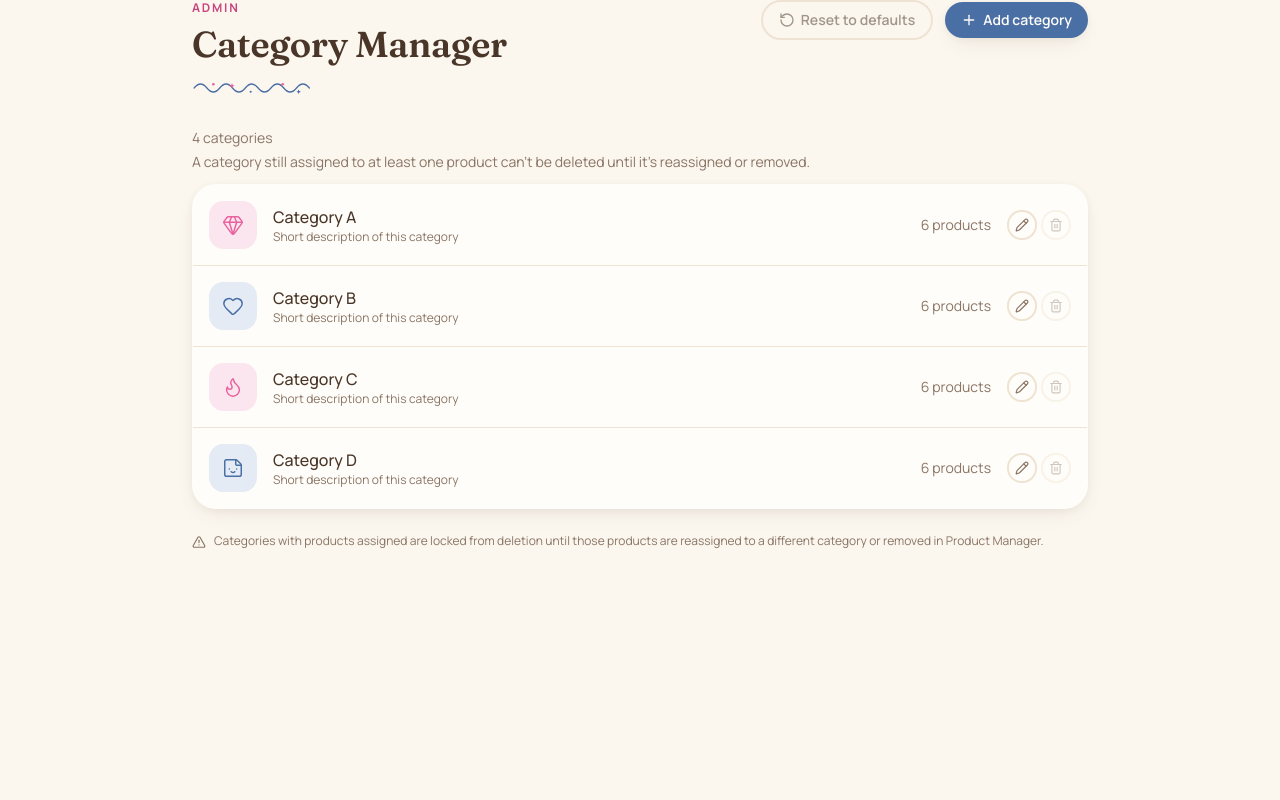
Test case: CategoryManager › allows deleting a category with no products assigned, after confirming
The width and height of the screenshot is (1280, 800).
Click the button "Add category".
click(1017, 20)  # box [945,2,1088,38]
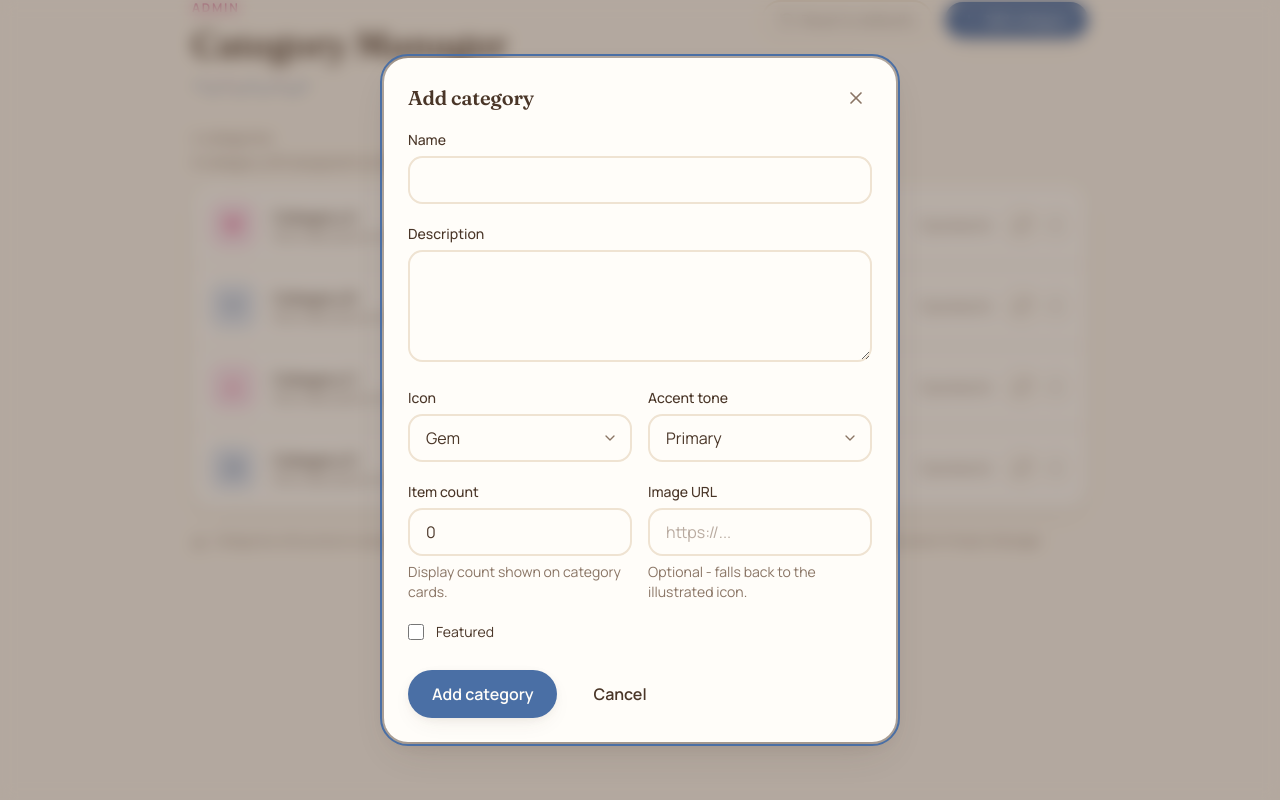
Type "Empty Category" into the field labelled "Name".
click(640, 180); type("Empty Category")  # box [408,156,872,204]
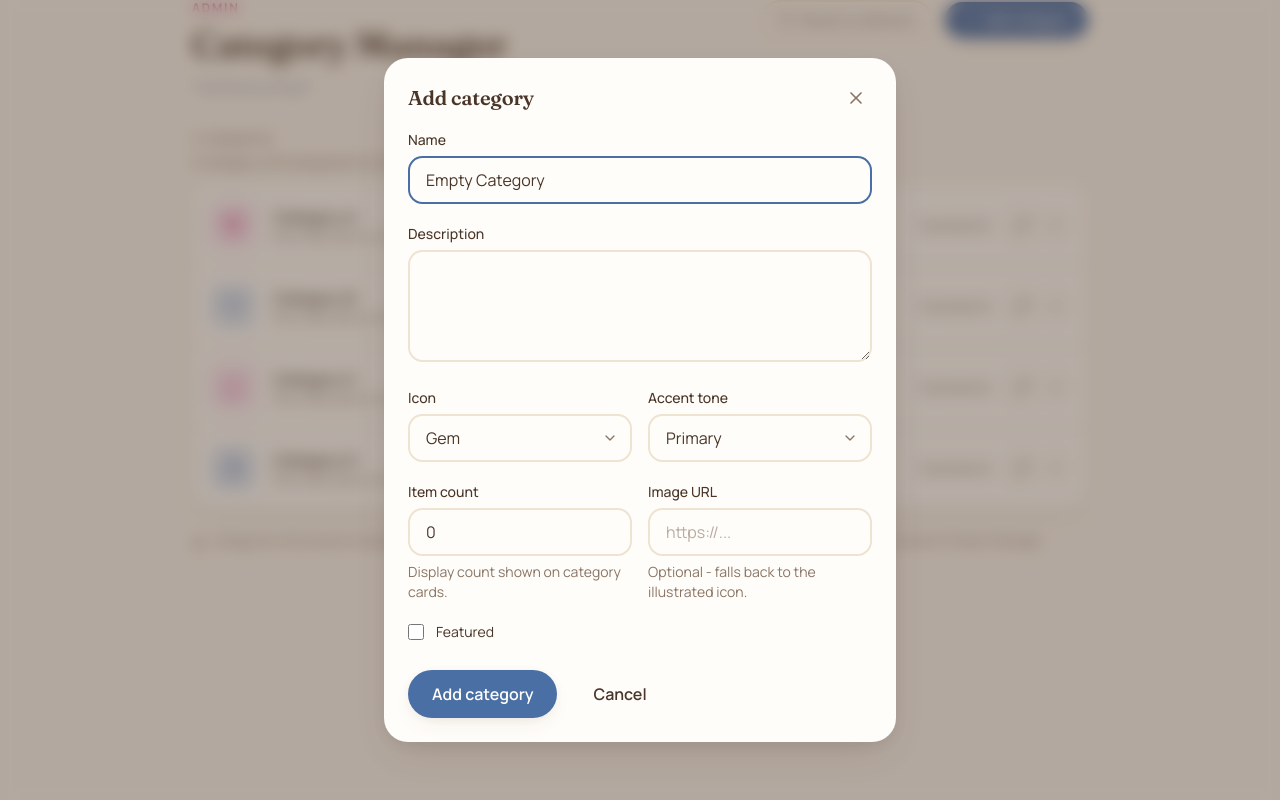
Type "Nothing here yet." into the text box labelled "Description".
click(640, 306); type("Nothing here yet.")  # box [408,250,872,362]
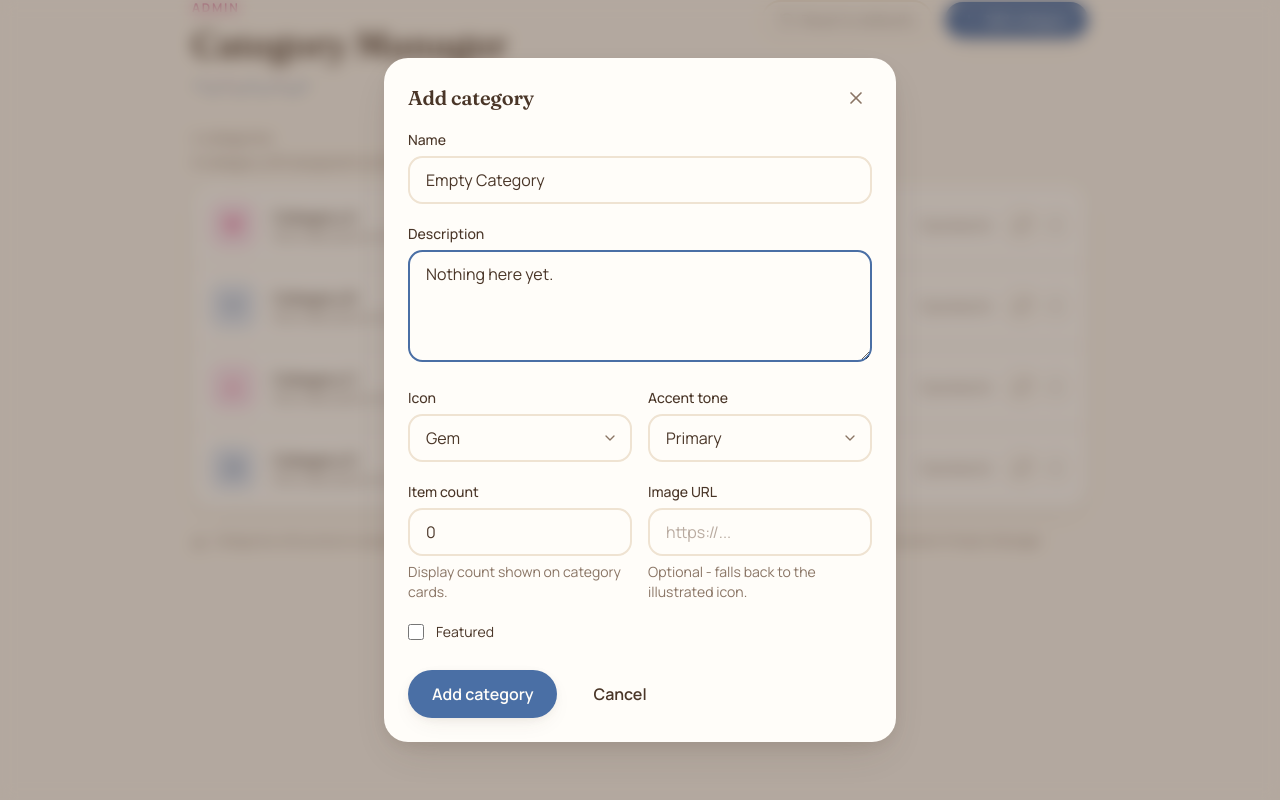
Click the button "Add category".
click(483, 694)  # box [408,670,558,718]
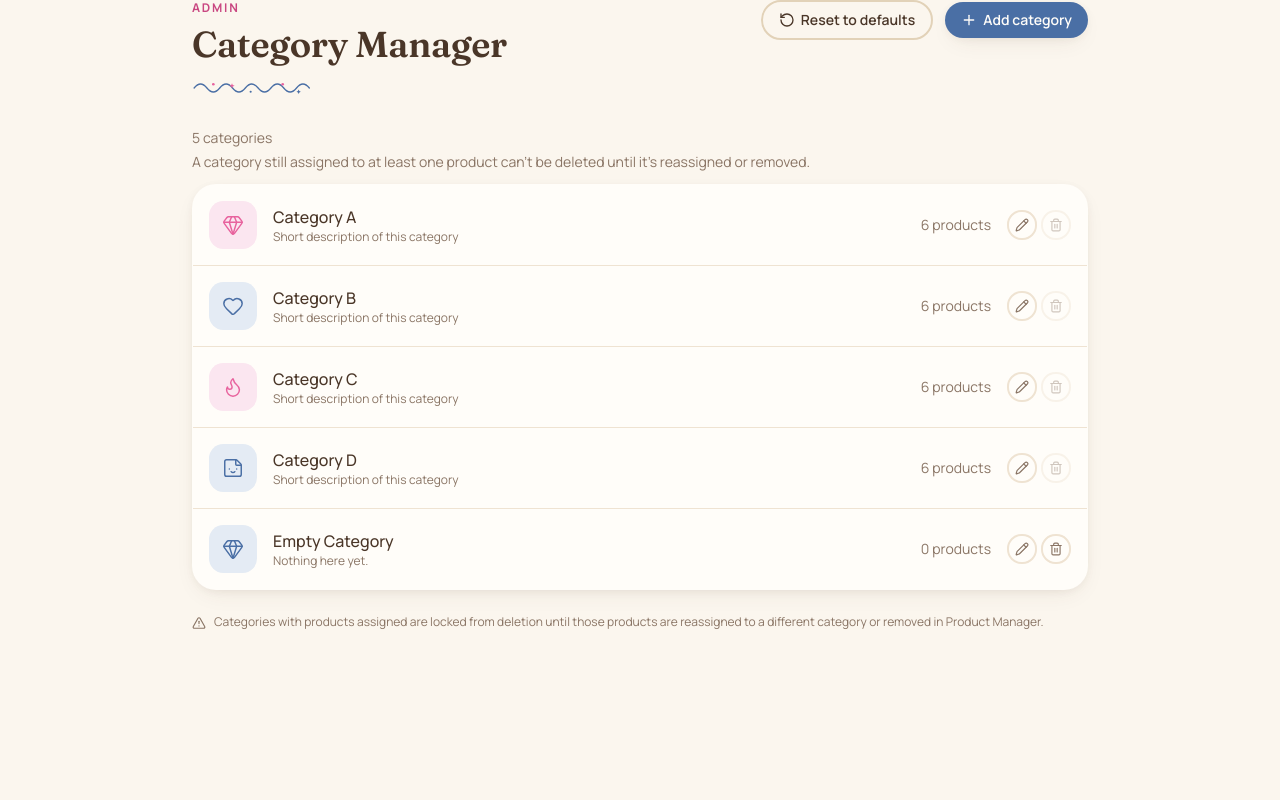
Click the button named "Delete Empty Category".
click(1056, 549)  # box [1041,534,1071,564]
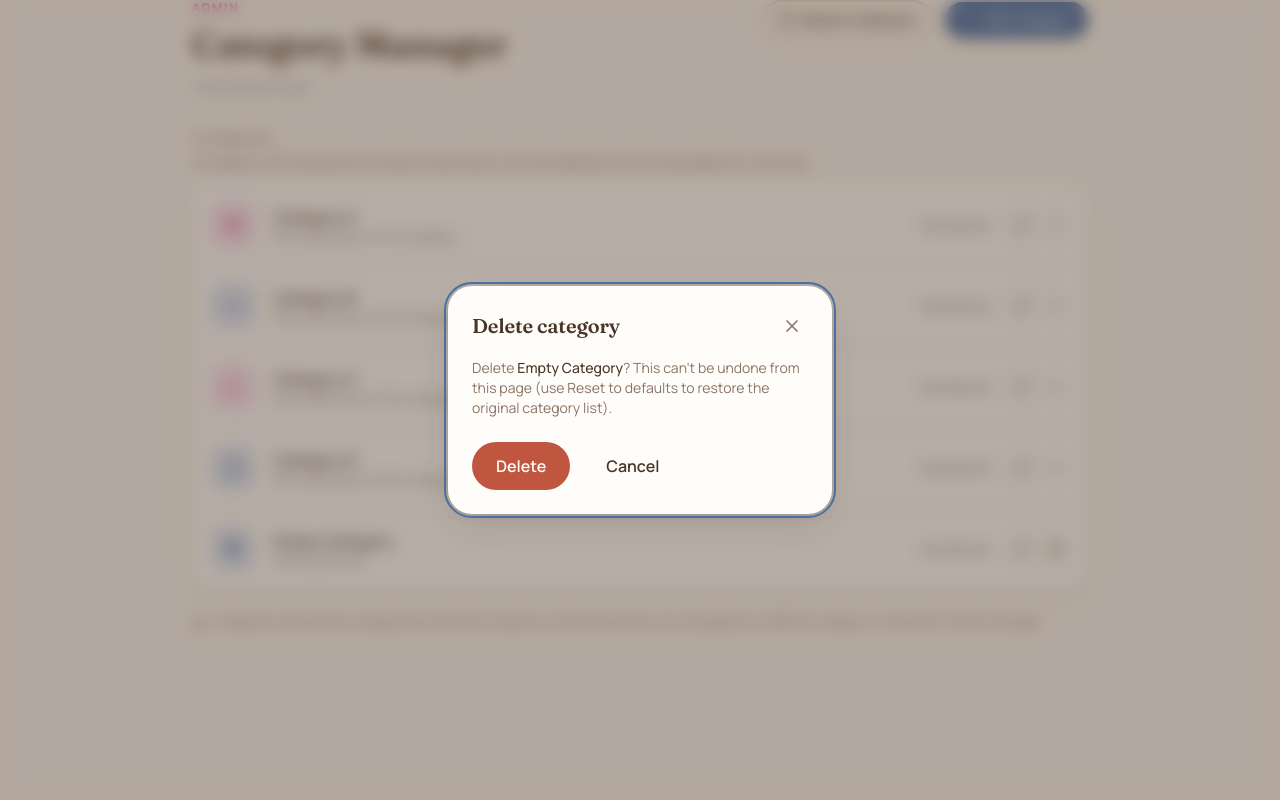
Click the button "Delete".
click(521, 466)  # box [472,442,570,490]
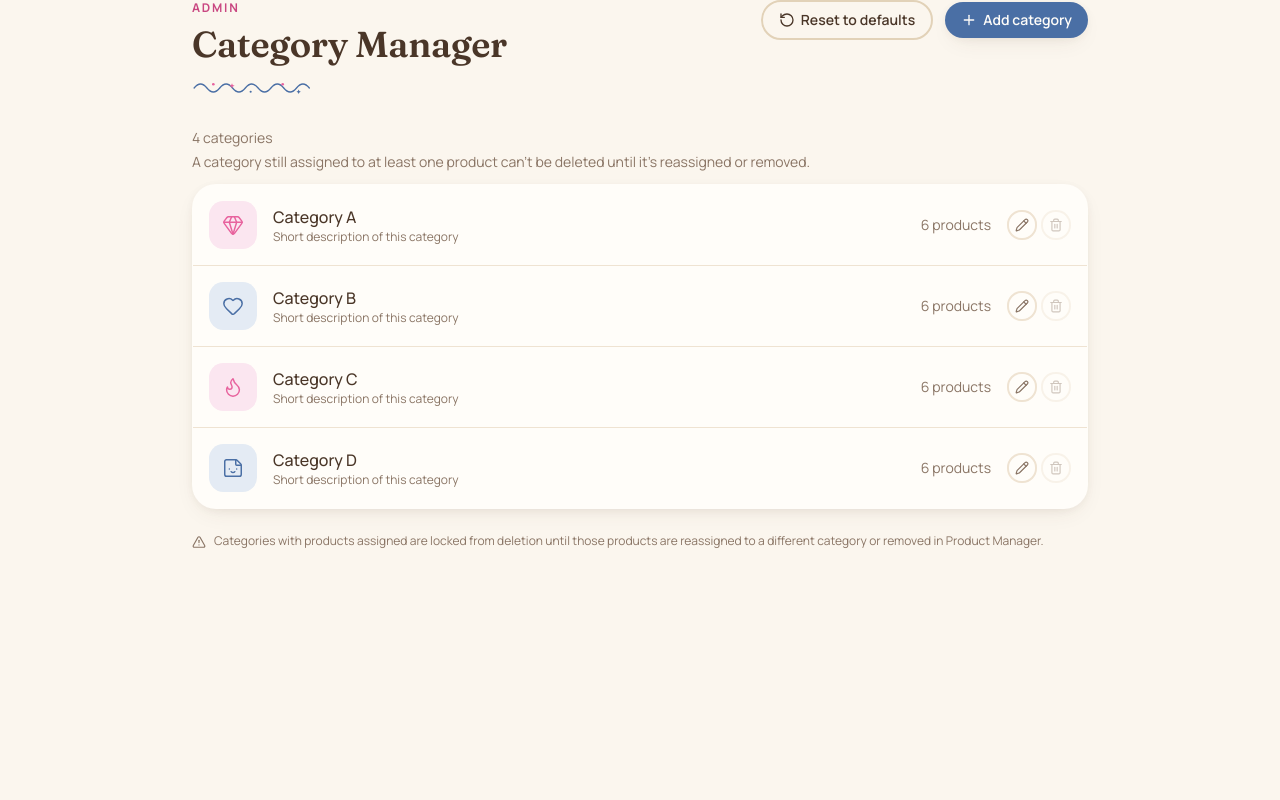
Check: the text "Empty Category" is gone
